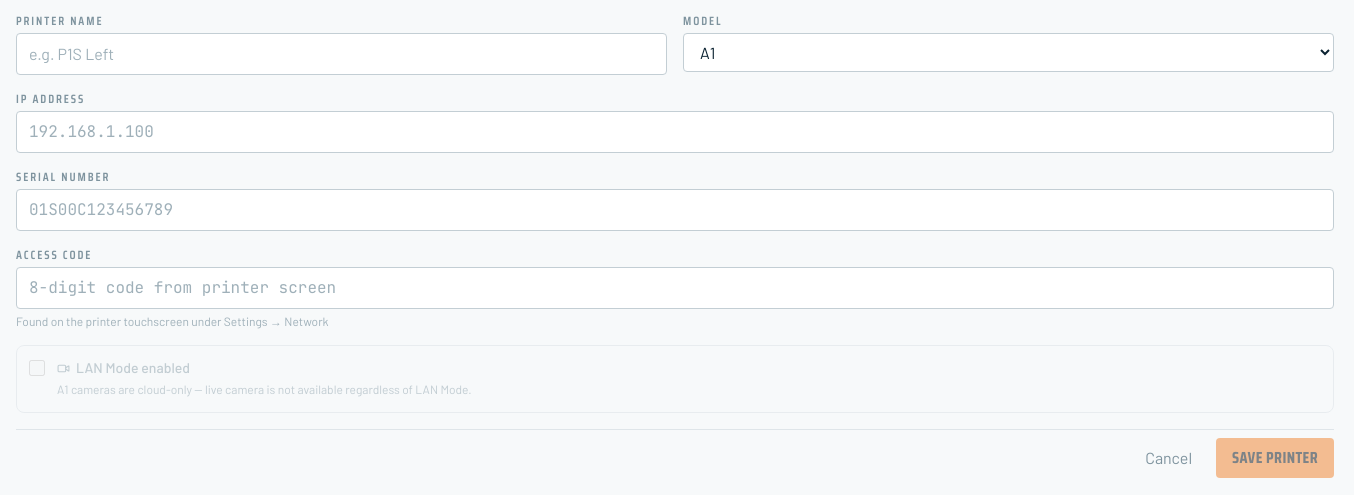
Test: PrinterForm › LAN Mode follows the selected model › turns off for a type that defaults it off
Select "H2D" in the dropdown: (1008, 52) [683,33,1334,72]
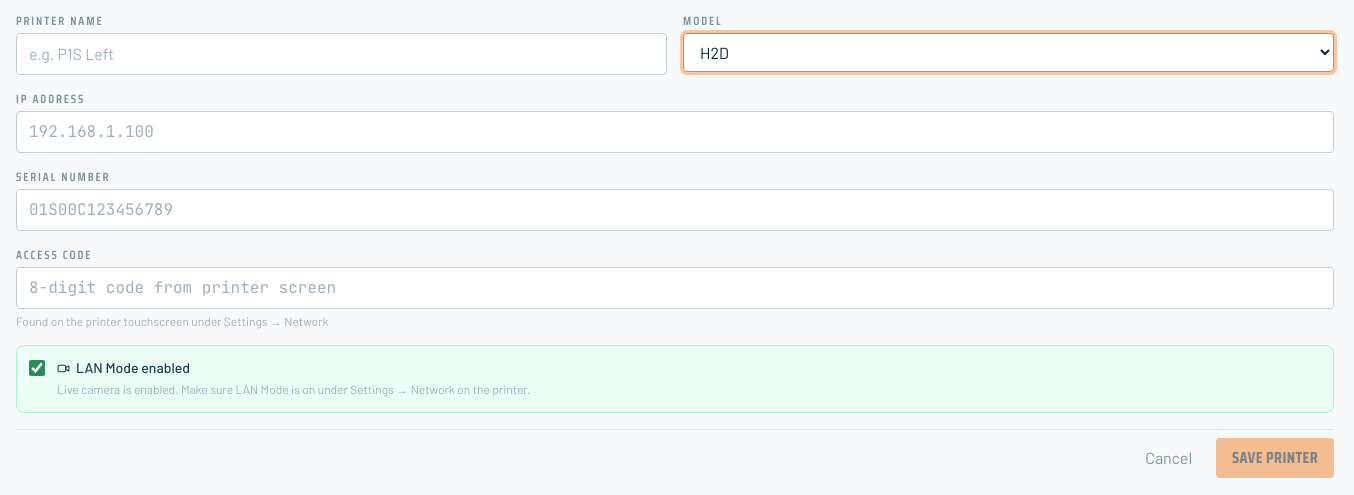
Select "P1S" in the dropdown: (1008, 52) [683,33,1334,72]
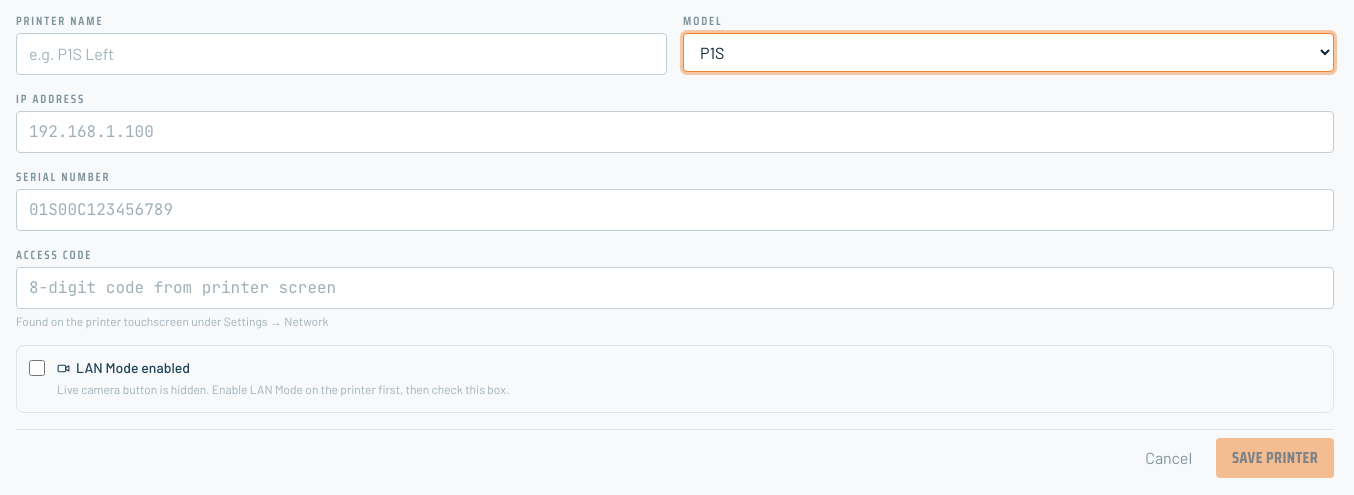
Expected: the checkbox is not checked, [29,360,45,376]
